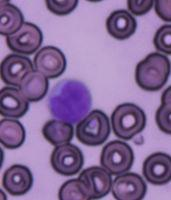L: (47, 77, 94, 125)
